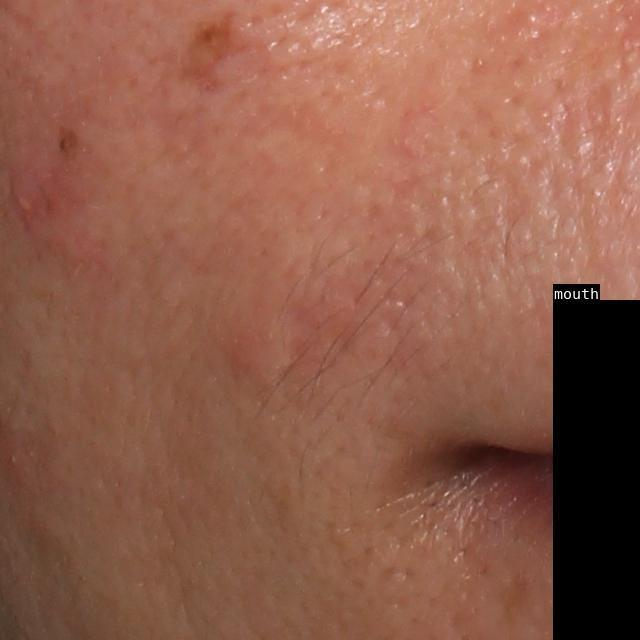atrophic_scar: (178, 11, 247, 106)
nevus: (55, 126, 78, 161)
other: (169, 3, 238, 112)
